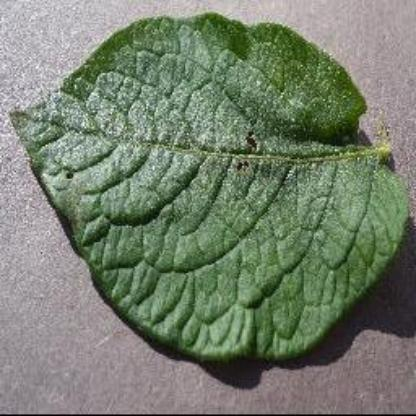Healthy-plant: (12, 11, 416, 373)
